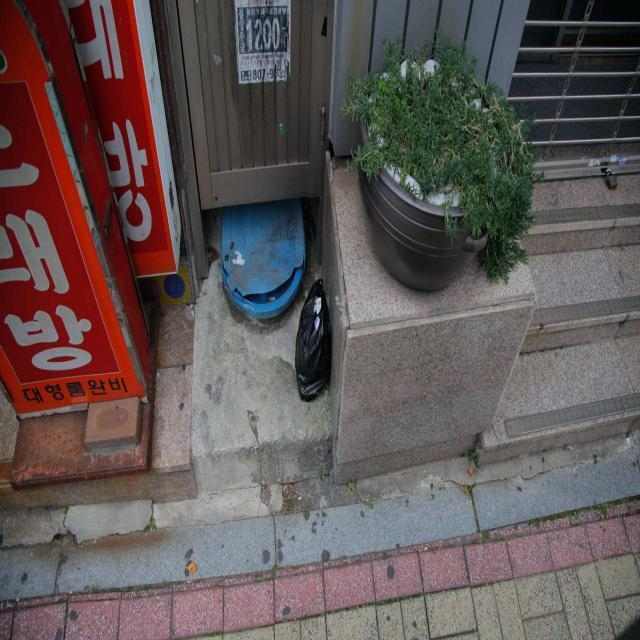Trashbag: (278, 275, 352, 407)
